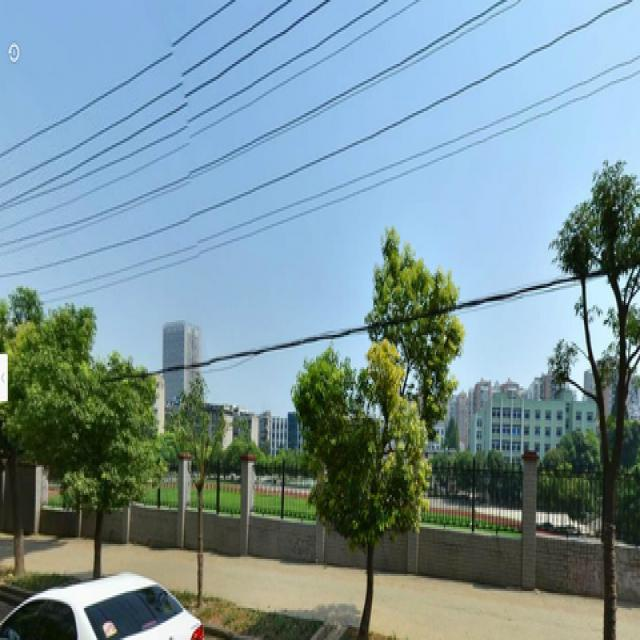cinn: (560, 177, 632, 627), (288, 361, 421, 604), (1, 301, 68, 576), (77, 352, 144, 574)
